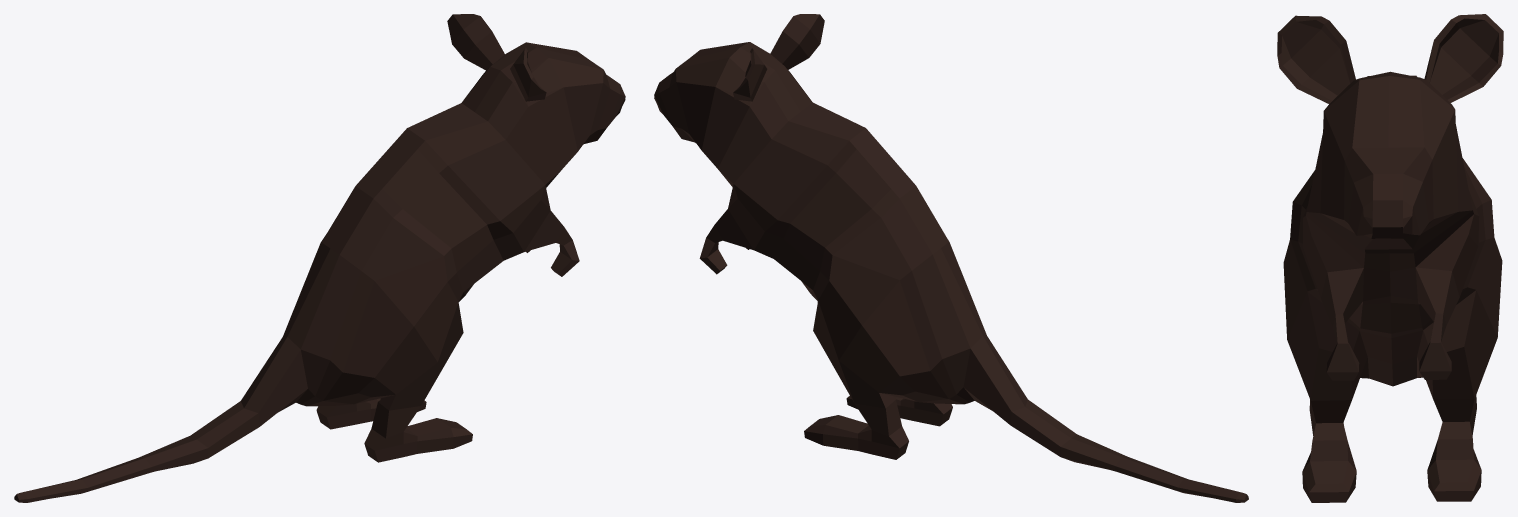
Rendered from Enemy_Basic.fbx.
3 renders of one model, left to right at view 1: azimuth 30°, elevation 25°; view 2: azimuth 150°, elevation 25°; view 3: azimuth 270°, elevation 25°, orthographic. The views are drawn at different scales.
Visible parts, largest first — view 1: Enemy; view 2: Enemy; view 3: Enemy.
Part boxes in pixels (box(x1,y1,x2,y2)): Enemy: box(14, 14, 625, 502); Enemy: box(654, 14, 1248, 502); Enemy: box(1277, 14, 1503, 502).
Bounding box in the file's own units: 61.87 × 37.06 × 14.47.
